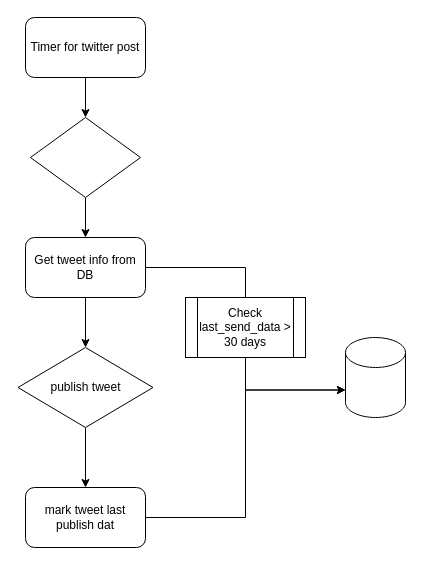
Image size: 423x565. Some labels were removed from this diagram. The shapes that lost their labels are listed below. From the top down, each one's centre as x and y in pixels, then its label:
At point 85,157: "weekly send event".
At point 375,377: "cockroach serverless".
